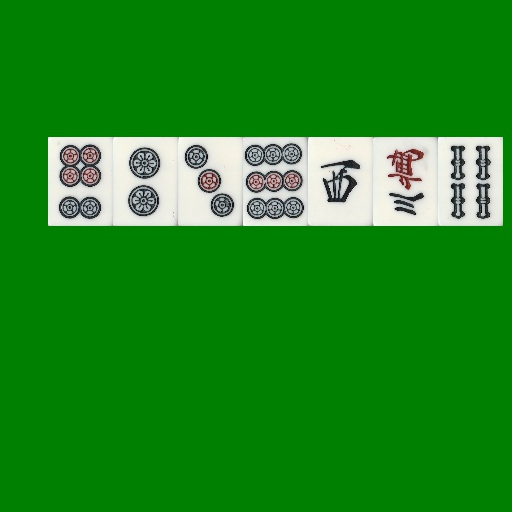2p: (113, 137, 178, 226)
3m: (373, 137, 438, 226)
3p: (178, 137, 243, 226)
4s: (438, 137, 503, 226)
6p: (48, 137, 113, 226)
9p: (243, 137, 308, 226)
west: (308, 137, 373, 226)
